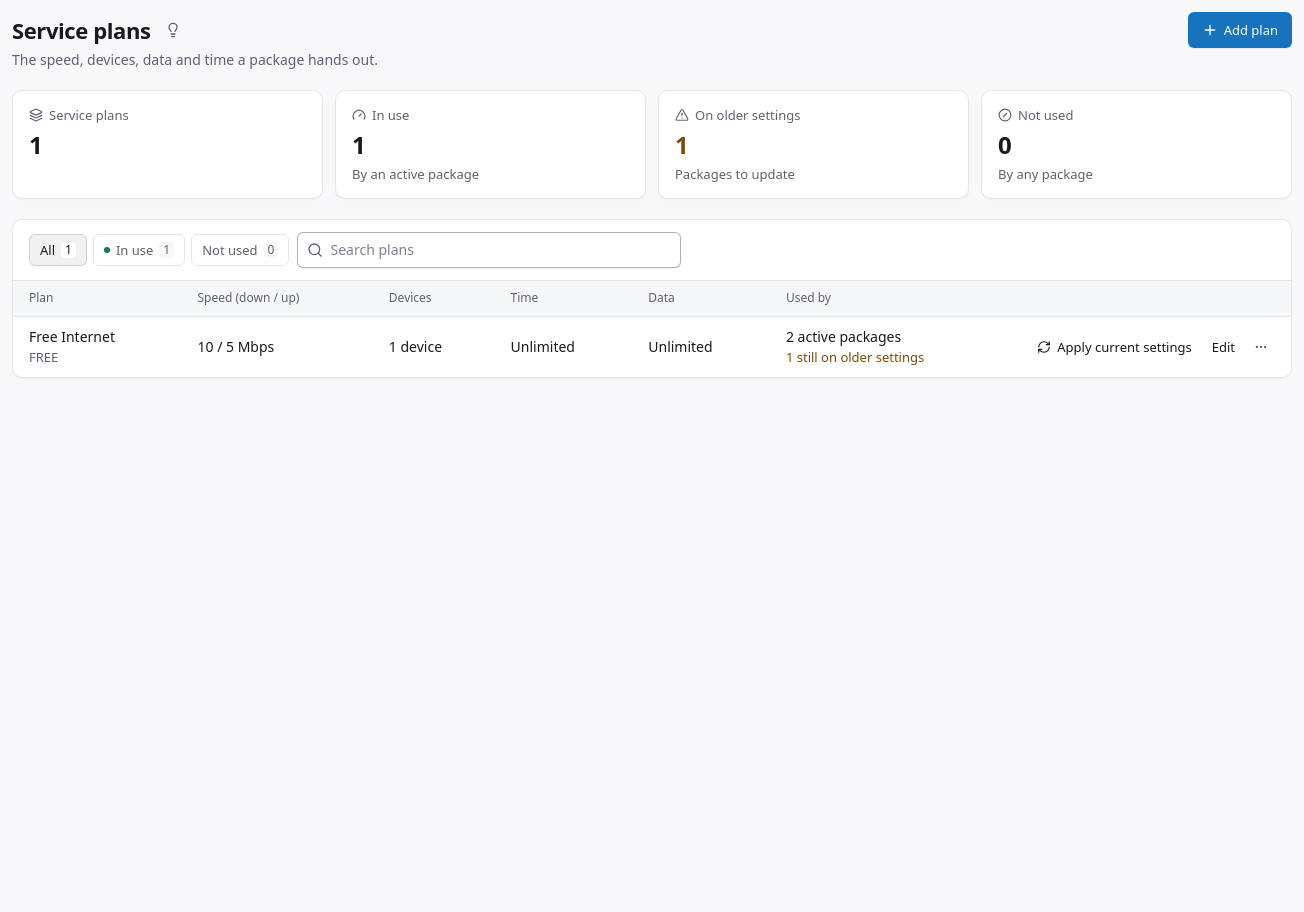
Test: ServicePlansPage — stale package pin › offers ONLY the stale package — one already on the current revision is not listed
Click the button with test id "apply-current-FREE".
click(1114, 347)  # box [1029, 333, 1200, 361]
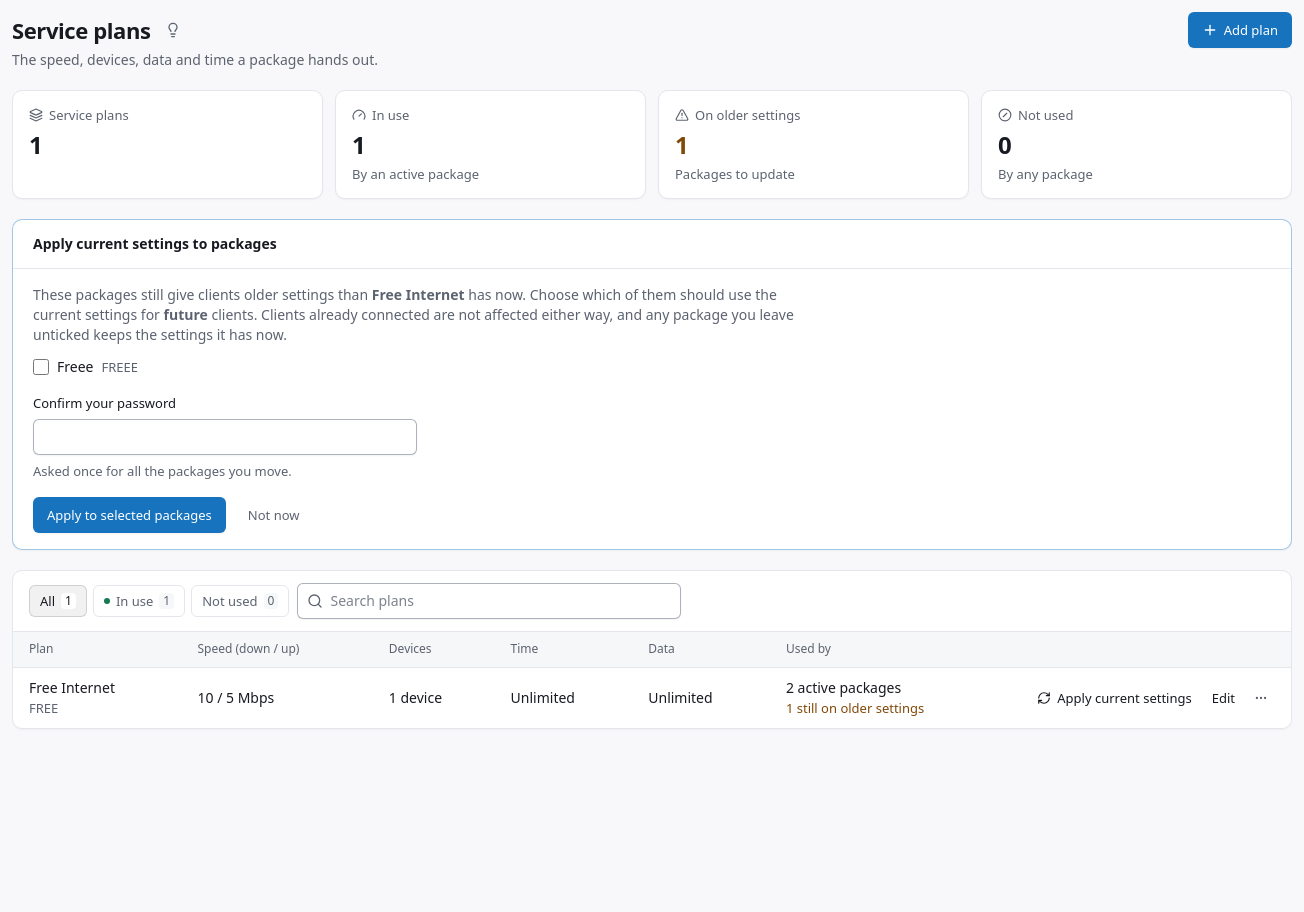
Result: the heading with test id "repin-title" reads "Apply current settings to packages" at [33, 234, 277, 253]
Result: the checkbox named "repin-FREEE" is shown at [33, 359, 49, 375]
